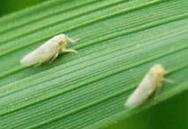pest: (18, 33, 73, 66), (124, 64, 164, 109)
